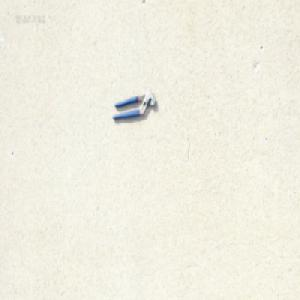Pliers: (111, 90, 157, 121)
